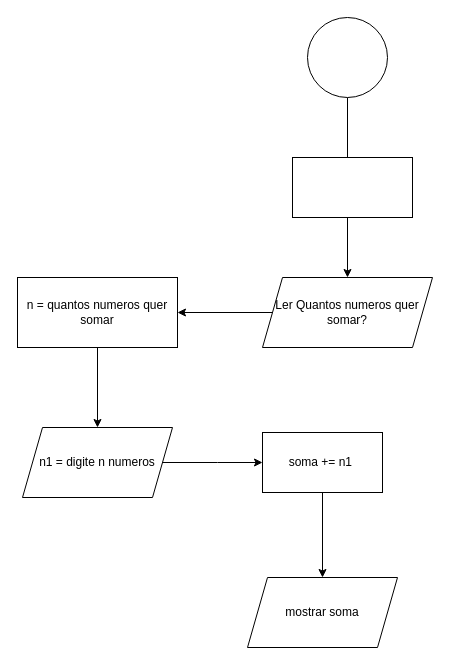
Some shapes in this 450 by 665 pixel diagram are drawn without their labels. The centre of each missing label's shape, as x and y in pixels:
"Inicio" goes at (347,57).
"soma = 0 count += 0" goes at (352,187).
